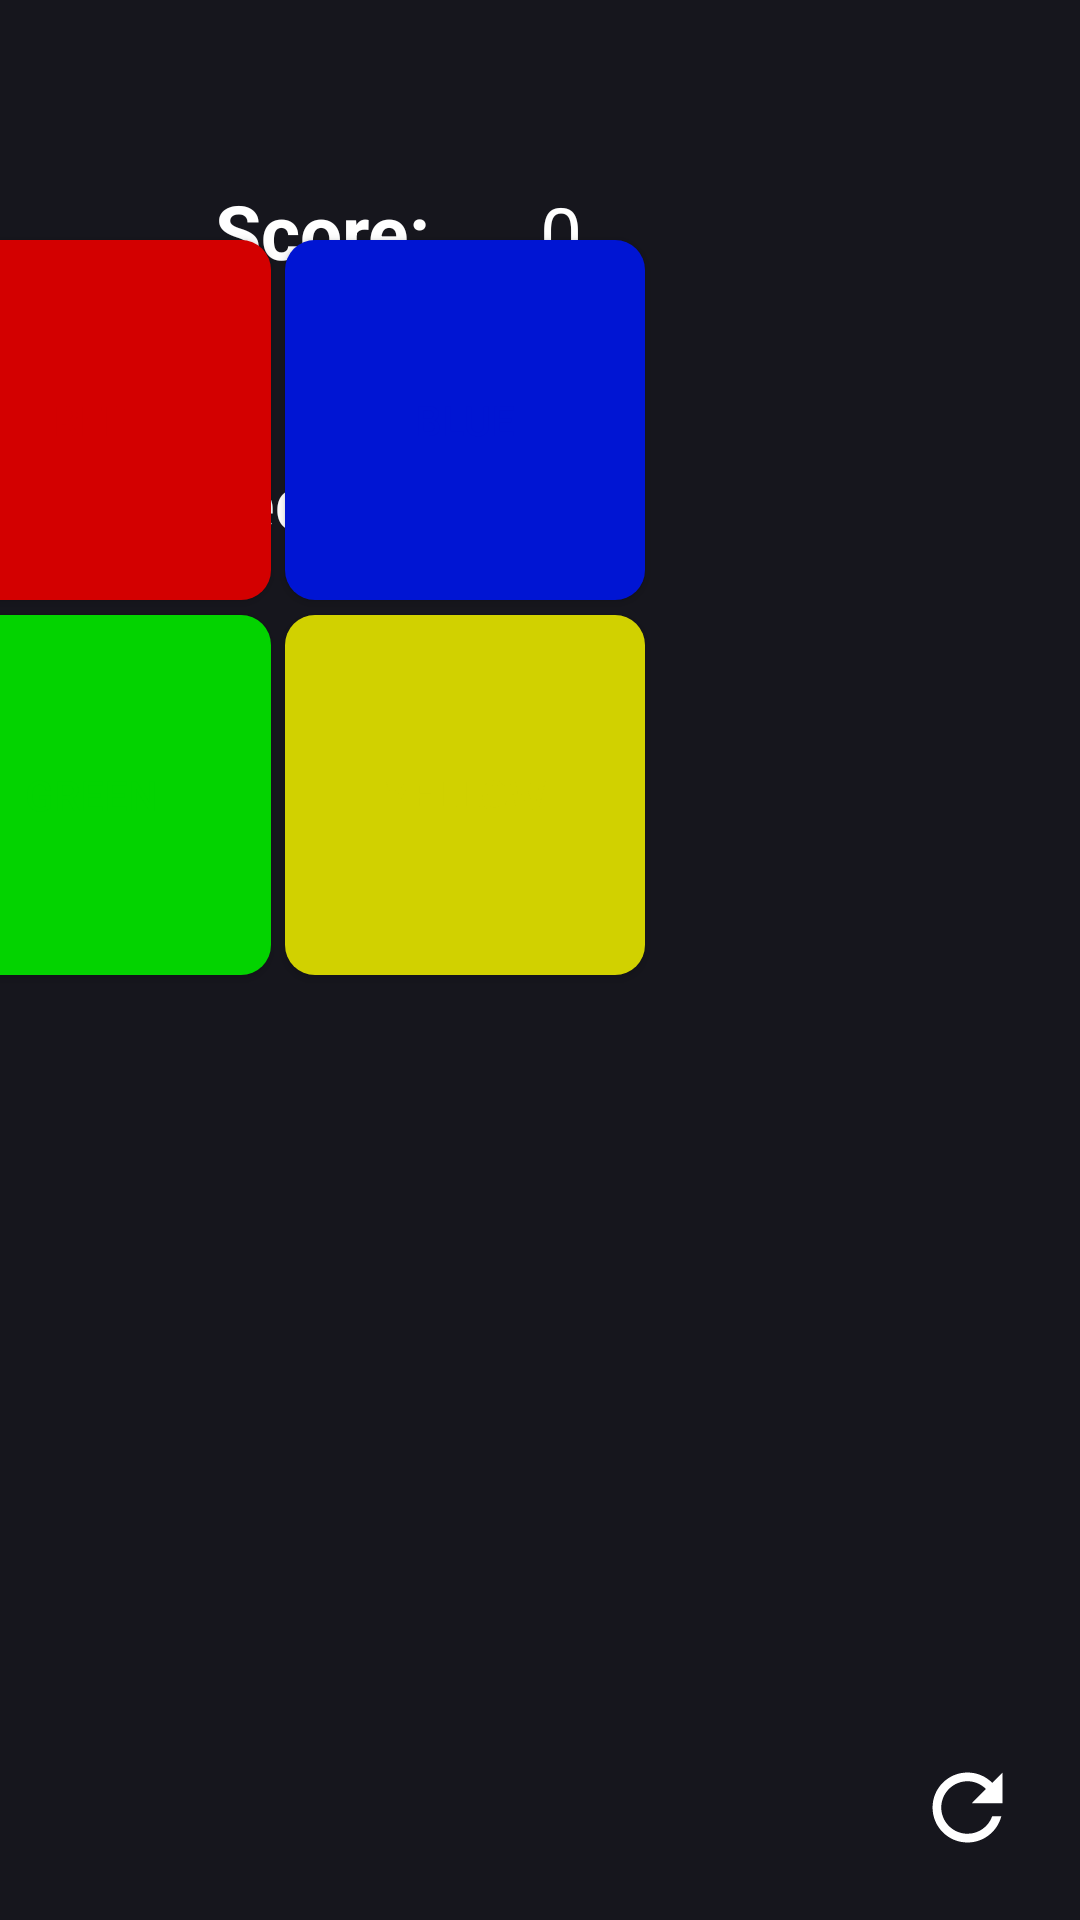

Icons on this 1080px x 1920px Android screen, each with its box as (x1, y1, x2, y2):
reiniciar: (932, 1772, 1003, 1843)
